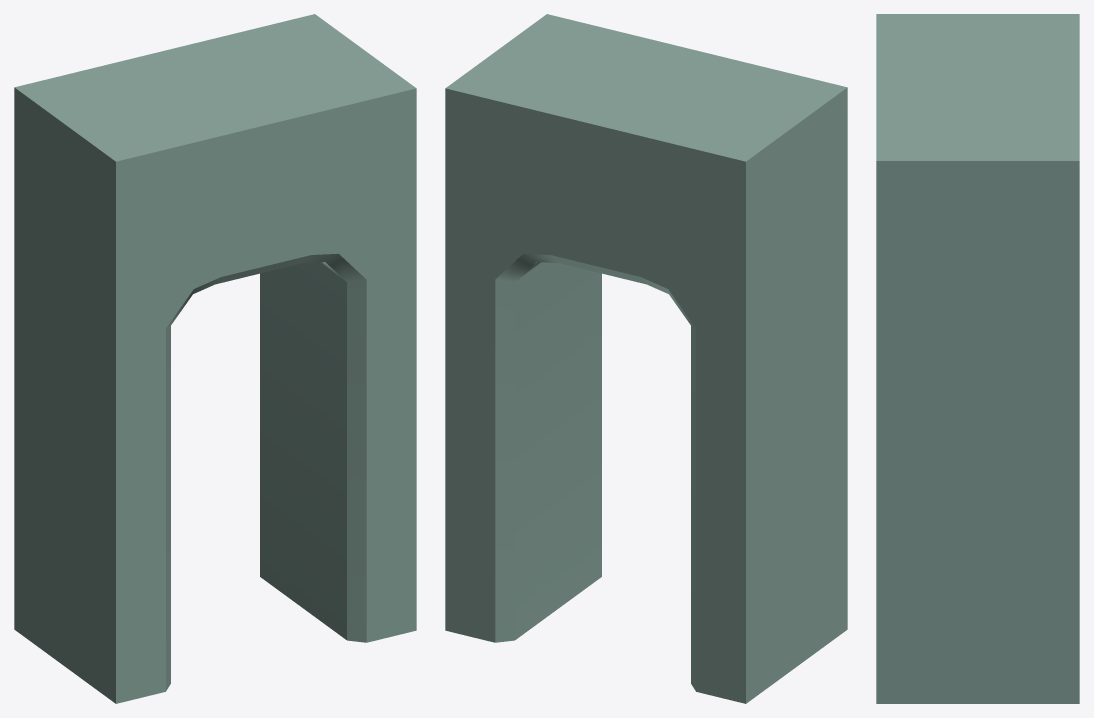
File: tunnel_02.fbx
3 renders of one model, left to right at view 1: azimuth 30°, elevation 25°; view 2: azimuth 150°, elevation 25°; view 3: azimuth 270°, elevation 25°, orthographic.
Visible parts, largest first — view 1: tunnel_02; view 2: tunnel_02; view 3: tunnel_02.
Part boxes in pixels (bbox=[...]): tunnel_02: bbox=[14, 14, 416, 703]; tunnel_02: bbox=[445, 14, 847, 703]; tunnel_02: bbox=[876, 14, 1079, 703].
Bounding box in the file's own units: 1.71 × 2.94 × 1.
